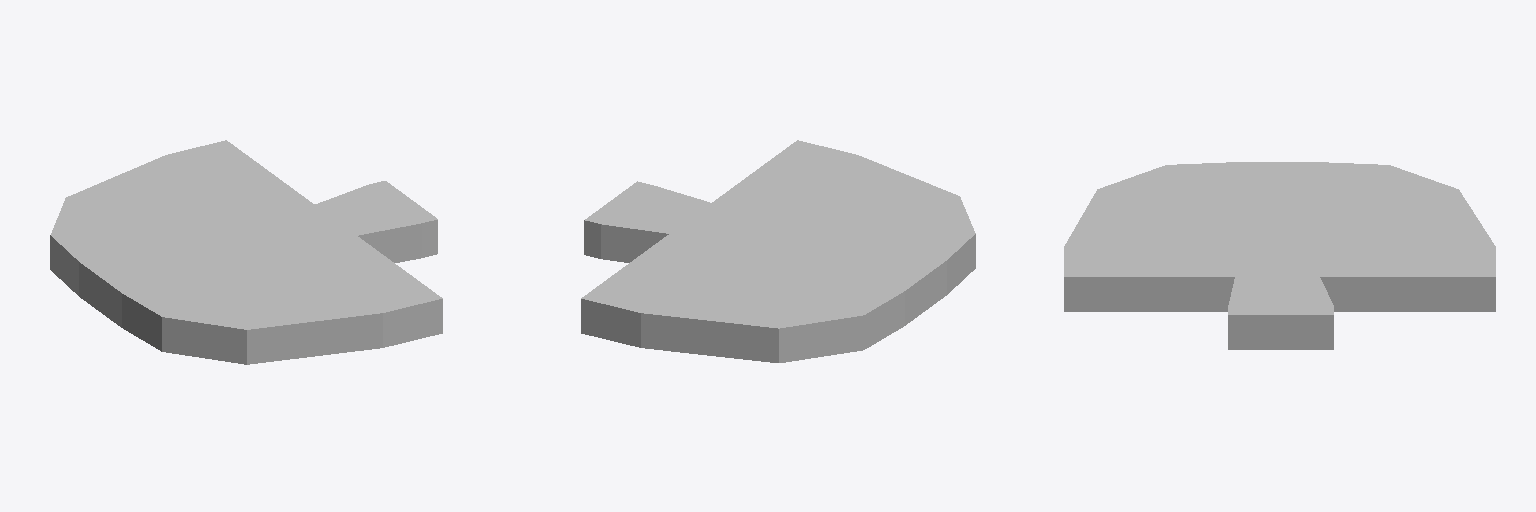
The model's file is SM_Pizza_Topping_Mushroom.obj.
3 renders of one model, left to right at view 1: azimuth 30°, elevation 25°; view 2: azimuth 150°, elevation 25°; view 3: azimuth 270°, elevation 25°, orthographic.
Parts seen in each view (by area): view 1: pCube81; view 2: pCube81; view 3: pCube81.
Part boxes in pixels (left/top/right/bottom): pCube81: left=50, top=140, right=442, bottom=364; pCube81: left=581, top=140, right=975, bottom=362; pCube81: left=1064, top=162, right=1495, bottom=349.
Size of the model in its own units: 1.25 by 0.1335 by 1.5.